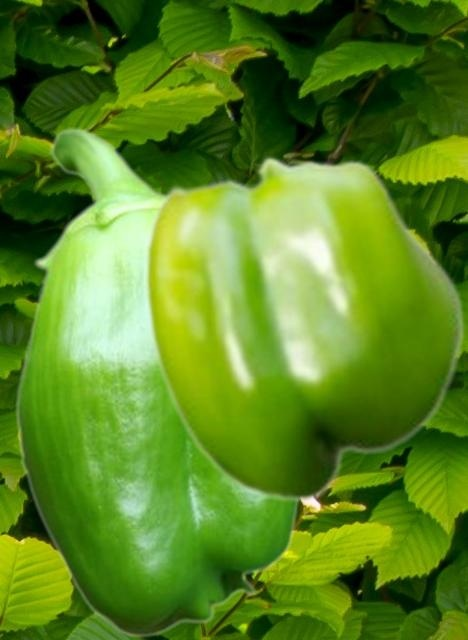bell_pepper: (14, 127, 302, 637), (144, 155, 464, 502)
